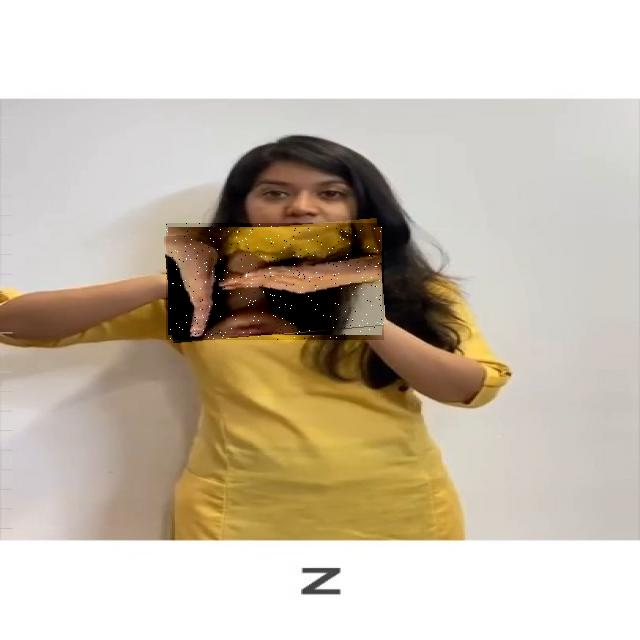Z: (166, 223, 384, 340)
